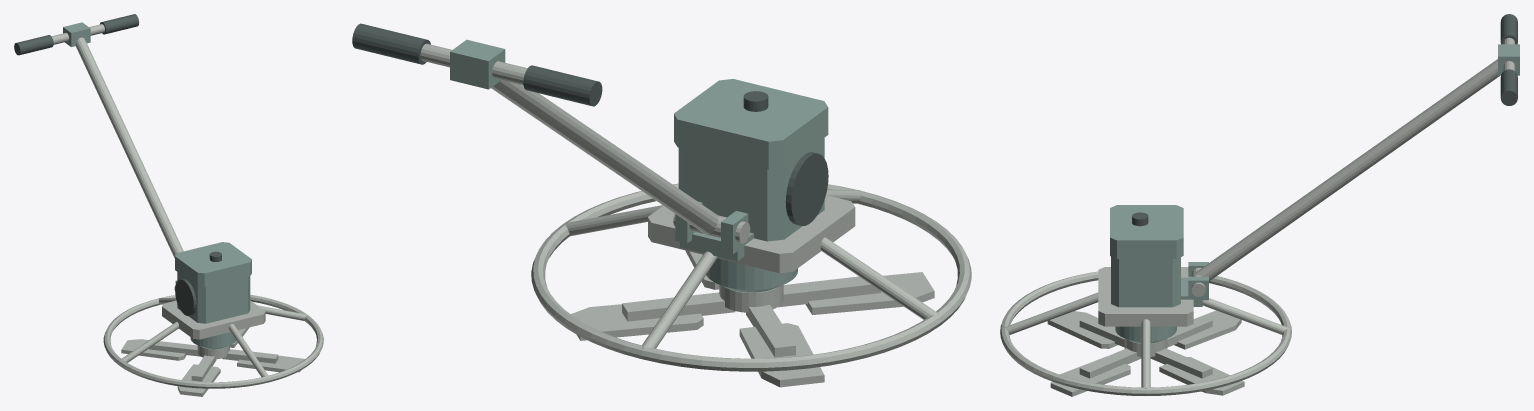
3 renders of one model, left to right at view 1: azimuth 30°, elevation 25°; view 2: azimuth 150°, elevation 25°; view 3: azimuth 270°, elevation 25°, orthographic. The views are drawn at different scales.
Visible parts, largest first — view 1: WholeContinuousOpenGuardRing, WholeLongInclinedControlShaft, WholeRaisedUpperCover, WholeFacetedMotorBlock, WholeMotorMountingDeck, WholeInsetSideCover, WholeBroadBluntLeaf1, WholeBroadBluntLeaf2, WholeBroadBluntLeaf3, WholeDarkHandGrip-1, WholeCompactTransmissionCase, WholeSlopingCageStay2 (+9 smaller); view 2: WholeContinuousOpenGuardRing, WholeRaisedUpperCover, WholeFacetedMotorBlock, WholeLongInclinedControlShaft, WholeMotorMountingDeck, WholeInsetSideCover, WholeBroadBluntLeaf2, WholeBroadBluntLeaf1, WholeBroadBluntLeaf0, WholeRearHandleFork, WholeBlankUpperControl, WholeDarkHandGrip-1 (+10 smaller); view 3: WholeLongInclinedControlShaft, WholeContinuousOpenGuardRing, WholeRaisedUpperCover, WholeFacetedMotorBlock, WholeMotorMountingDeck, WholeBroadBluntLeaf2, WholeBroadBluntLeaf1, WholeBroadBluntLeaf0, WholeBroadBluntLeaf3, WholeSlopingCageStay3, WholeSlopingCageStay1, WholeRotorSupportArm0 (+9 smaller).
Boxes of the visible parts, bbox=[...] form: WholeContinuousOpenGuardRing: bbox=[103, 295, 323, 388]; WholeLongInclinedControlShaft: bbox=[76, 37, 183, 258]; WholeRaisedUpperCover: bbox=[175, 242, 251, 287]; WholeFacetedMotorBlock: bbox=[177, 272, 250, 323]; WholeMotorMountingDeck: bbox=[162, 300, 265, 339]; WholeInsetSideCover: bbox=[175, 279, 196, 315]; WholeBroadBluntLeaf1: bbox=[121, 339, 186, 360]; WholeBroadBluntLeaf2: bbox=[177, 364, 220, 396]; WholeBroadBluntLeaf3: bbox=[237, 355, 304, 372]; WholeDarkHandGrip-1: bbox=[14, 35, 53, 55]; WholeCompactTransmissionCase: bbox=[190, 332, 236, 349]; WholeSlopingCageStay2: bbox=[120, 321, 178, 362]; WholeContinuousOpenGuardRing: bbox=[531, 183, 971, 371]; WholeRaisedUpperCover: bbox=[674, 79, 828, 169]; WholeFacetedMotorBlock: bbox=[678, 138, 824, 241]; WholeLongInclinedControlShaft: bbox=[491, 80, 718, 235]; WholeMotorMountingDeck: bbox=[648, 195, 855, 273]; WholeInsetSideCover: bbox=[785, 152, 828, 225]; WholeBroadBluntLeaf2: bbox=[805, 272, 934, 314]; WholeBroadBluntLeaf1: bbox=[739, 323, 824, 387]; WholeBroadBluntLeaf0: bbox=[571, 304, 703, 340]; WholeRearHandleFork: bbox=[675, 201, 753, 261]; WholeBlankUpperControl: bbox=[450, 39, 505, 89]; WholeDarkHandGrip-1: bbox=[523, 65, 602, 106]; WholeLongInclinedControlShaft: bbox=[1194, 59, 1499, 281]; WholeContinuousOpenGuardRing: bbox=[1000, 271, 1291, 395]; WholeRaisedUpperCover: bbox=[1110, 205, 1183, 258]; WholeFacetedMotorBlock: bbox=[1111, 256, 1180, 307]; WholeMotorMountingDeck: bbox=[1098, 267, 1193, 326]; WholeBroadBluntLeaf2: bbox=[1047, 311, 1117, 348]; WholeBroadBluntLeaf1: bbox=[1174, 310, 1241, 349]; WholeBroadBluntLeaf0: bbox=[1159, 357, 1244, 395]; WholeBroadBluntLeaf3: bbox=[1050, 356, 1130, 396]; WholeSlopingCageStay3: bbox=[1003, 292, 1098, 334]; WholeSlopingCageStay1: bbox=[1202, 298, 1288, 334]; WholeRotorSupportArm0: bbox=[1150, 348, 1212, 378].
Bounding box in the file's own units: 0.888 × 1.02 × 1.58.
